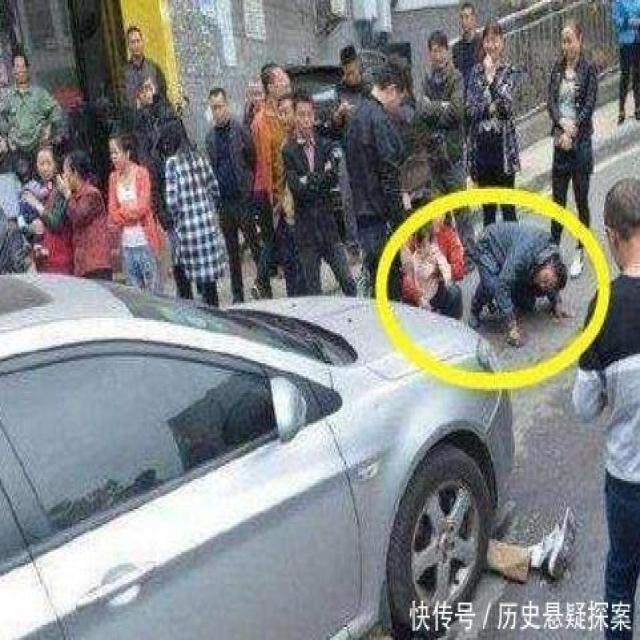10-: (0, 0, 637, 630)
down: (452, 210, 587, 376), (449, 481, 598, 617)
